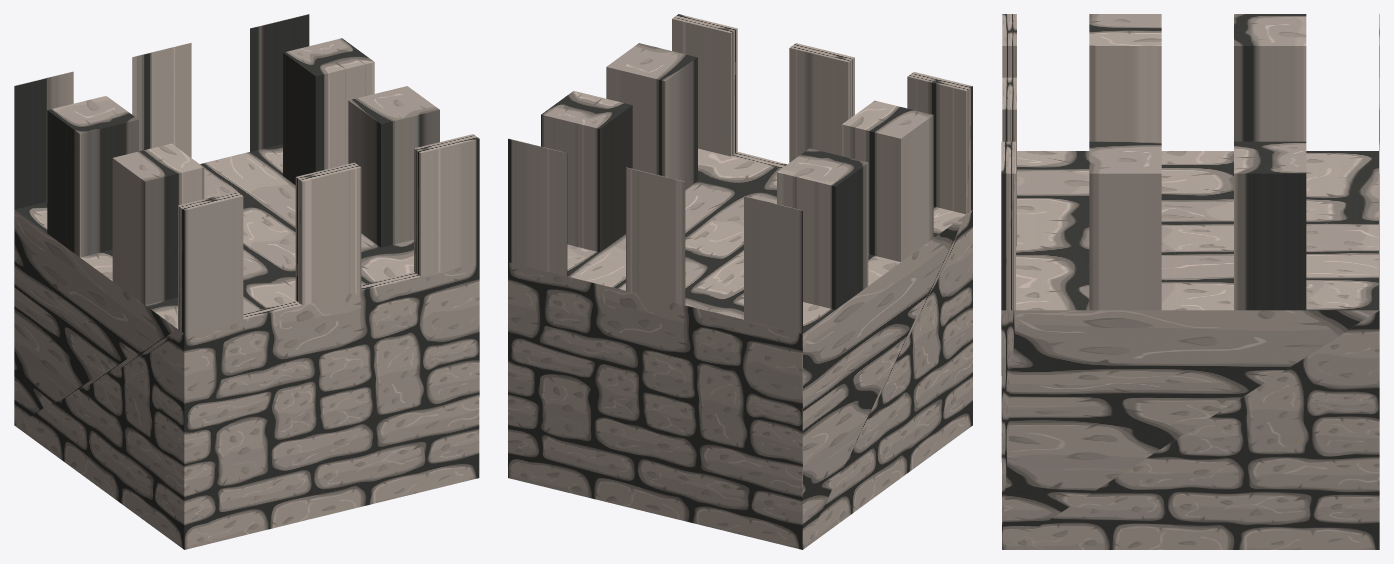
Rendered from MURO_NIVEL_2.fbx.
3 views of the same model, side by side, from view 1: azimuth 30°, elevation 25°; view 2: azimuth 150°, elevation 25°; view 3: azimuth 270°, elevation 25° (orthographic). The views are drawn at different scales.
Visible parts, largest first — view 1: Box001; view 2: Box001; view 3: Box001.
Boxes of the visible parts, x1,y1,x2,y2 form: Box001: (14,14,479,549); Box001: (508,14,972,549); Box001: (1001,14,1379,549).
Bounding box in the file's own units: 0.5 × 0.55 × 0.5012.
Materials: 1 (1 with a texture image).
